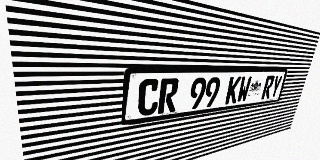9: (188, 77, 208, 110), (203, 77, 221, 108)
C: (137, 79, 160, 117)
K: (225, 76, 241, 105)
R: (157, 78, 179, 114), (261, 75, 275, 99)
W: (236, 76, 252, 103)
Y: (269, 75, 283, 98)
